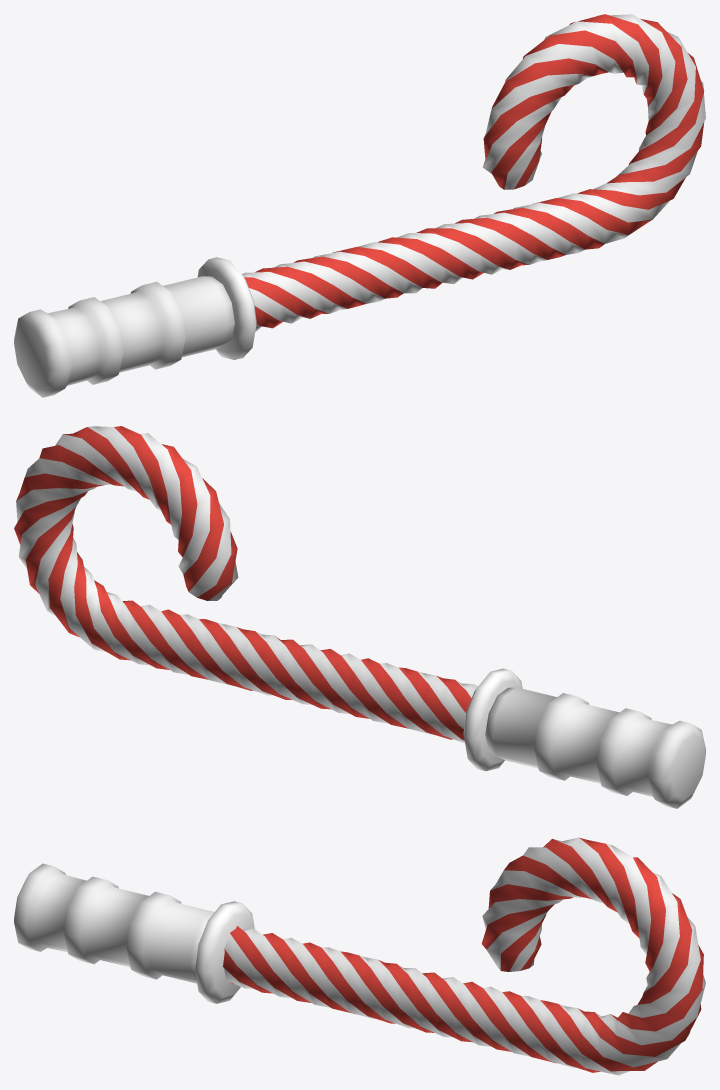
The model's file is knife_candy.glb.
3 renders of one model, top to bottom at view 1: azimuth 30°, elevation 25°; view 2: azimuth 150°, elevation 25°; view 3: azimuth 330°, elevation 25°, orthographic.
Visible parts, largest first — view 1: Blade, Handle, Guard; view 2: Blade, Handle, Guard; view 3: Blade, Handle, Guard.
Boxes of the visible parts, bbox=[...] form: Blade: bbox=[242, 14, 705, 331]; Handle: bbox=[14, 276, 234, 397]; Guard: bbox=[197, 257, 256, 359]; Blade: bbox=[14, 426, 477, 742]; Handle: bbox=[485, 687, 705, 808]; Guard: bbox=[463, 668, 522, 771]; Blade: bbox=[223, 837, 705, 1075]; Handle: bbox=[14, 863, 214, 983]; Guard: bbox=[195, 901, 254, 1003].
Bounding box in the file's own units: 0.5378 × 0.1895 × 0.072.
